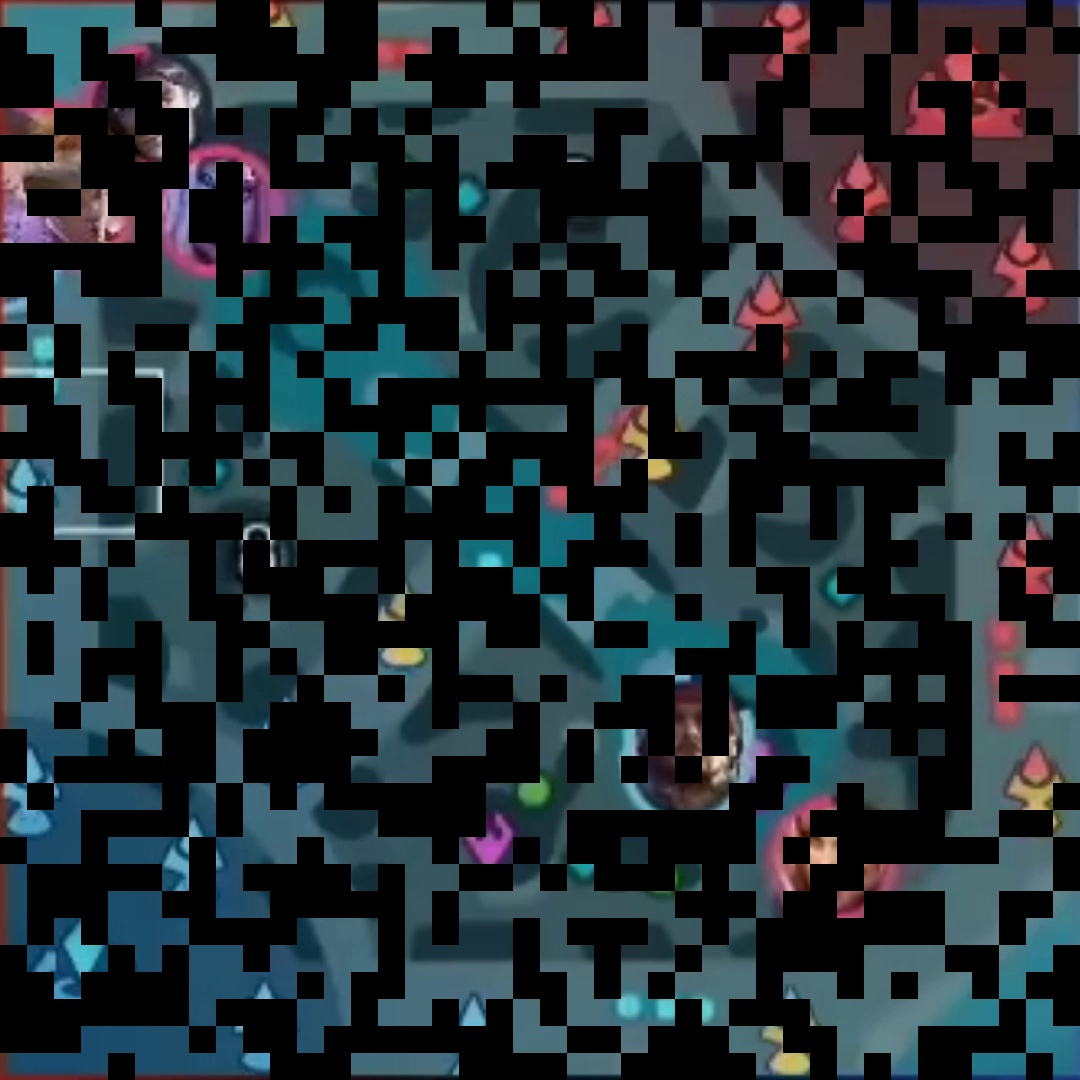Chou: (39, 158, 121, 256)
Claude: (111, 56, 197, 151)
Lapu-Lapu: (650, 684, 737, 780)
Masha: (797, 809, 880, 913)
Valentina: (178, 159, 264, 257)
